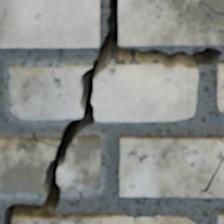brick: (120, 137, 223, 196), (119, 0, 223, 45), (0, 0, 99, 47), (12, 215, 194, 223), (209, 163, 223, 196), (218, 63, 223, 111), (218, 214, 223, 223)
broken_brick: (93, 63, 198, 122), (8, 64, 89, 121), (0, 138, 54, 197), (58, 135, 101, 196), (36, 137, 58, 144)
crack: (2, 0, 221, 223), (200, 155, 223, 197), (218, 138, 223, 143)
